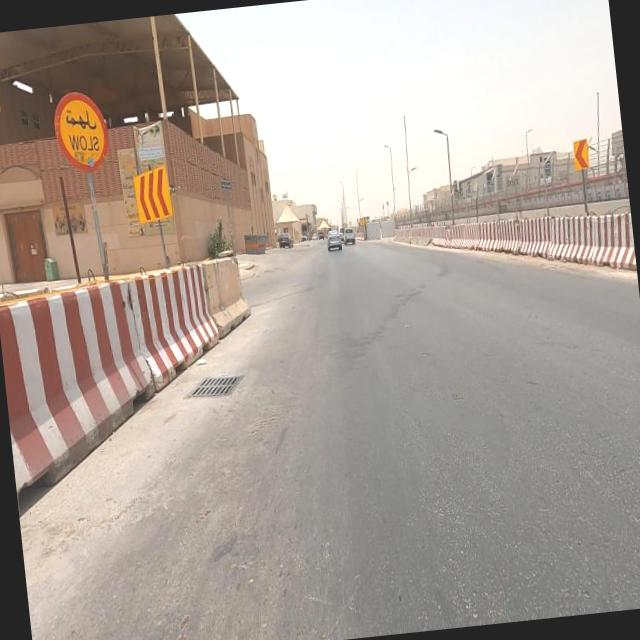debris: (25, 54, 150, 218), (32, 172, 107, 262)
